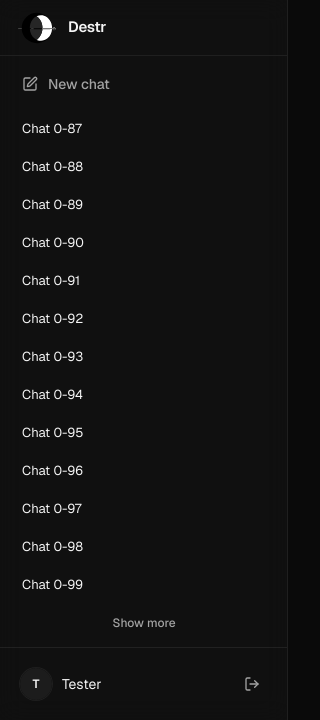
Test: AppSidebar conversation nav › loads all pages through Show more when more conversations exist
This screenshot has width=320, height=720.
(page scrolled)
Click the button with test id "conversation-show-more" at coordinates (144, 623), box [12, 607, 276, 639]
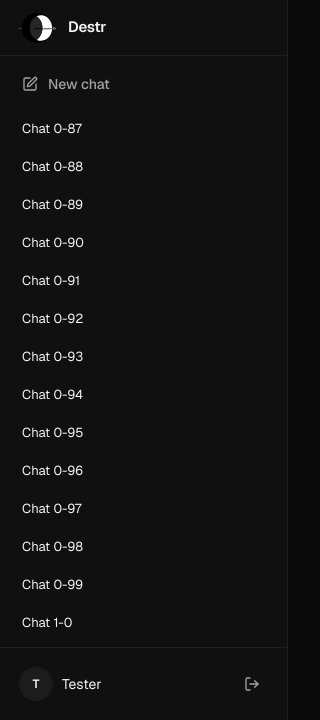
Now the button with test id "conversation-show-more" is gone
